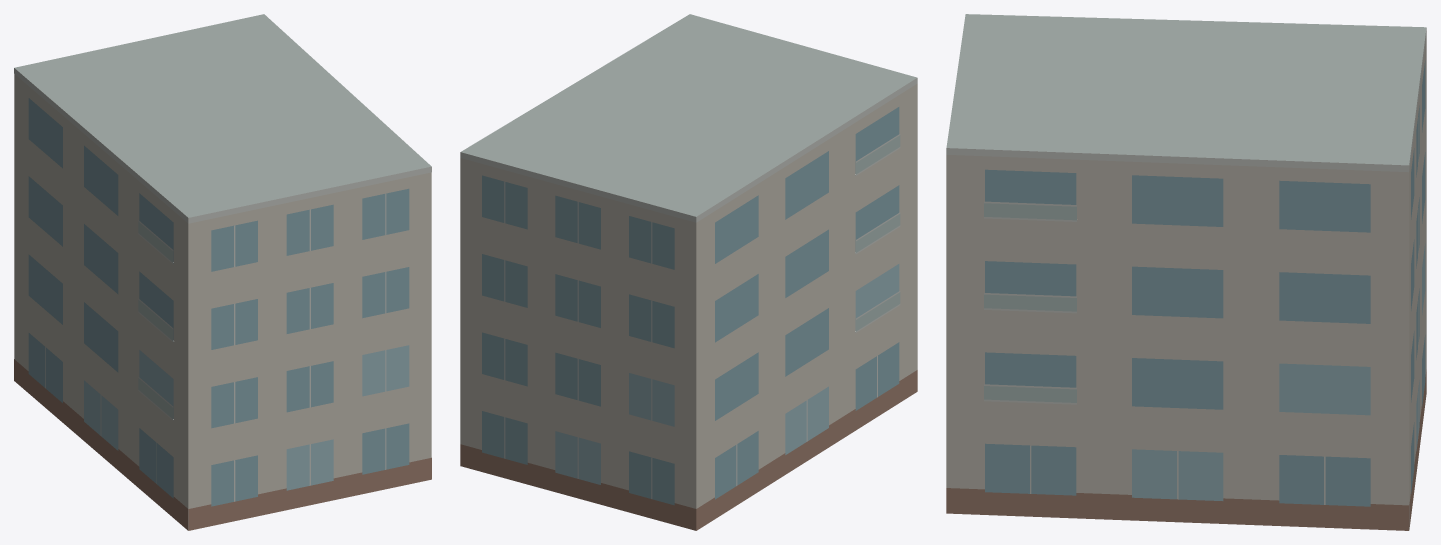
File: survey-upis-32973027.glb
3 views of the same model, side by side, from view 1: azimuth 30°, elevation 25°; view 2: azimuth 150°, elevation 25°; view 3: azimuth 270°, elevation 25° (orthographic). The views are drawn at different scales.
Visible parts, largest first — view 1: survey-upis-32973027.tmp; view 2: survey-upis-32973027.tmp; view 3: survey-upis-32973027.tmp.
Part boxes in pixels (<box>): survey-upis-32973027.tmp: <box>14,14,431,530</box>; survey-upis-32973027.tmp: <box>460,14,917,530</box>; survey-upis-32973027.tmp: <box>946,14,1426,530</box>.
Size of the model in its own units: 11.7 by 13.15 by 15.67.
